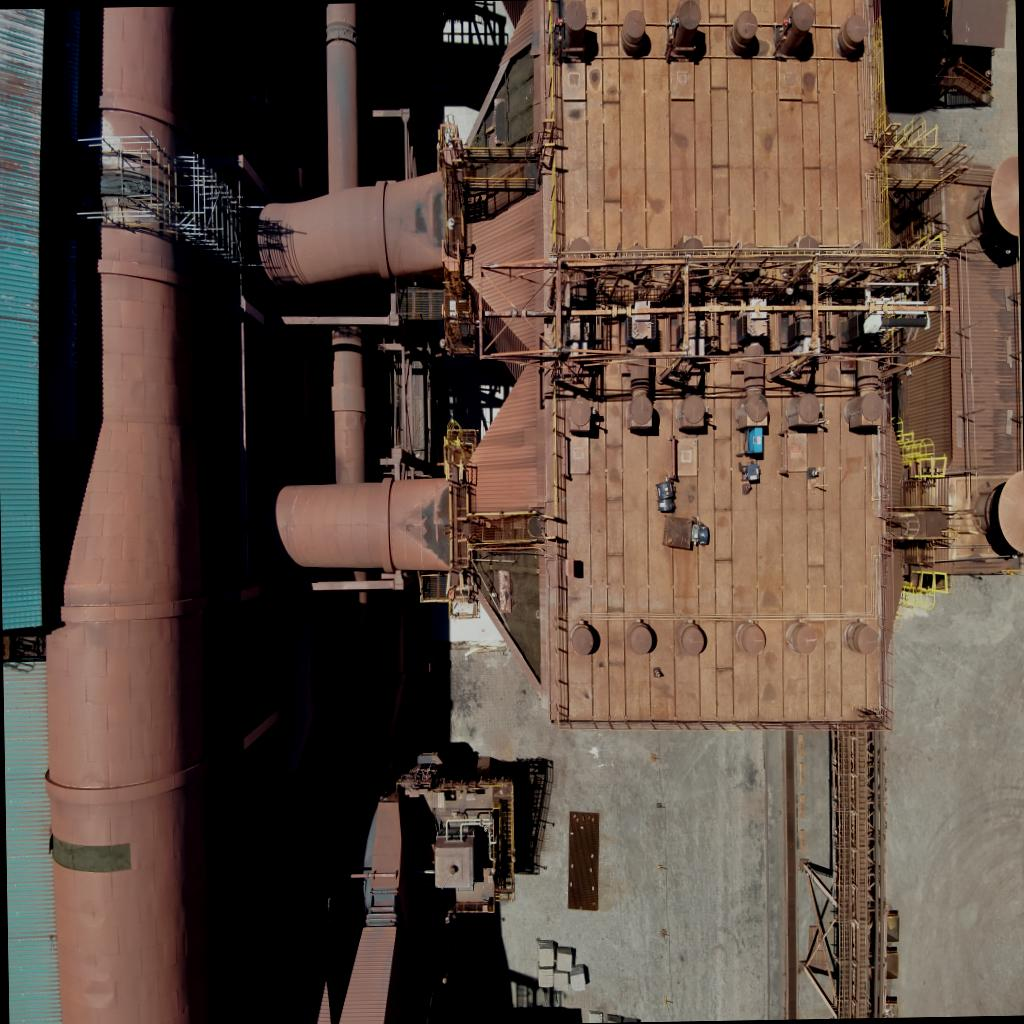Failures: (462, 32, 540, 222), (467, 526, 547, 700), (46, 832, 132, 884)
